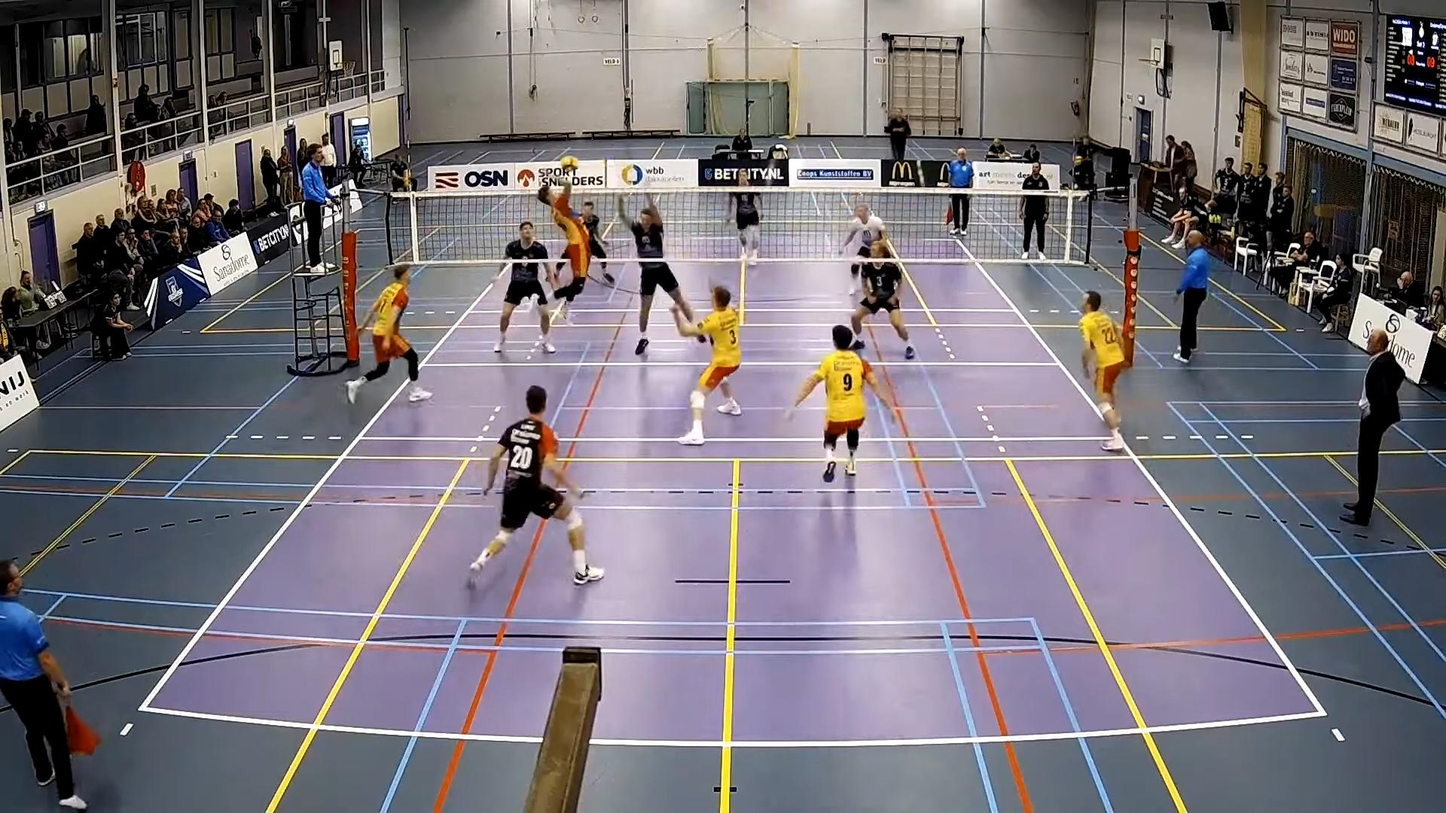Attack: (530, 179, 593, 318)
Block: (618, 174, 700, 357)
Player: (470, 385, 603, 584), (789, 325, 894, 481), (345, 263, 431, 402), (672, 287, 741, 445), (493, 221, 555, 352), (852, 240, 915, 359), (1078, 291, 1124, 452), (580, 202, 614, 284), (728, 172, 759, 260), (841, 204, 888, 257)
ball: (563, 155, 577, 170)
